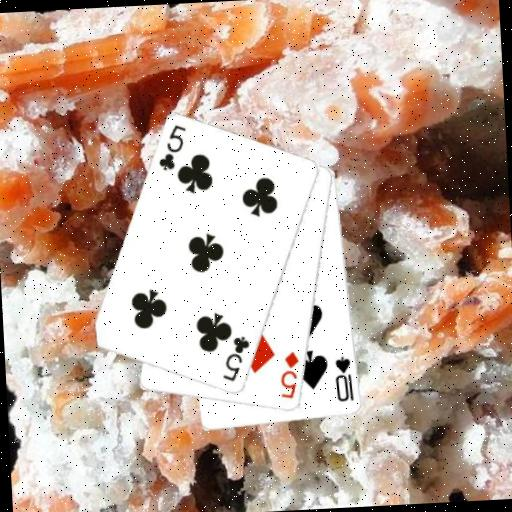10S: (332, 353, 357, 405)
5C: (154, 122, 190, 174), (218, 333, 254, 384)
5D: (276, 349, 303, 401)
